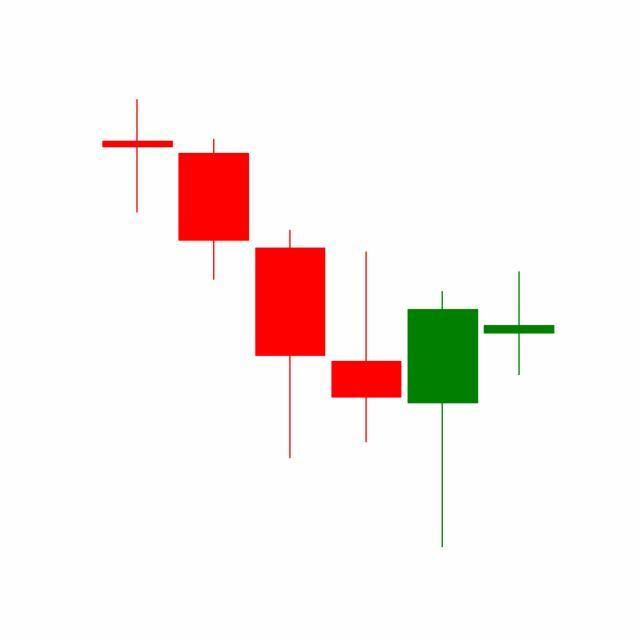Morning Star: (252, 226, 482, 549)
